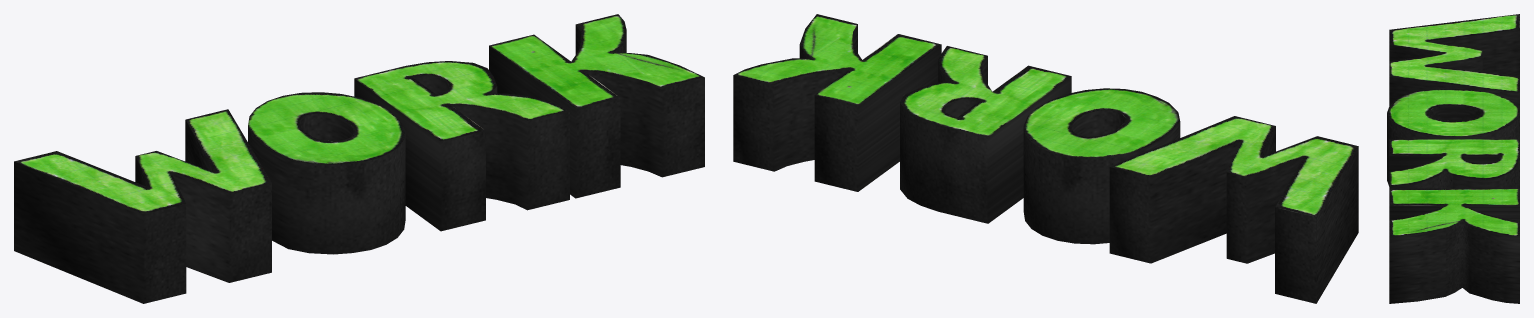
Rendered from worksign.fbx.
The picture shows the model from 3 angles, left to right: view 1: azimuth 30°, elevation 25°; view 2: azimuth 150°, elevation 25°; view 3: azimuth 270°, elevation 25°; orthographic projection. The views are drawn at different scales.
Visible parts, largest first — view 1: Plane; view 2: Plane; view 3: Plane.
Boxes of the visible parts, x1,y1,x2,y2 form: Plane: (14, 14, 704, 303); Plane: (733, 14, 1358, 303); Plane: (1387, 14, 1519, 303).
Size of the model in its own units: 2821 by 400 by 713.
